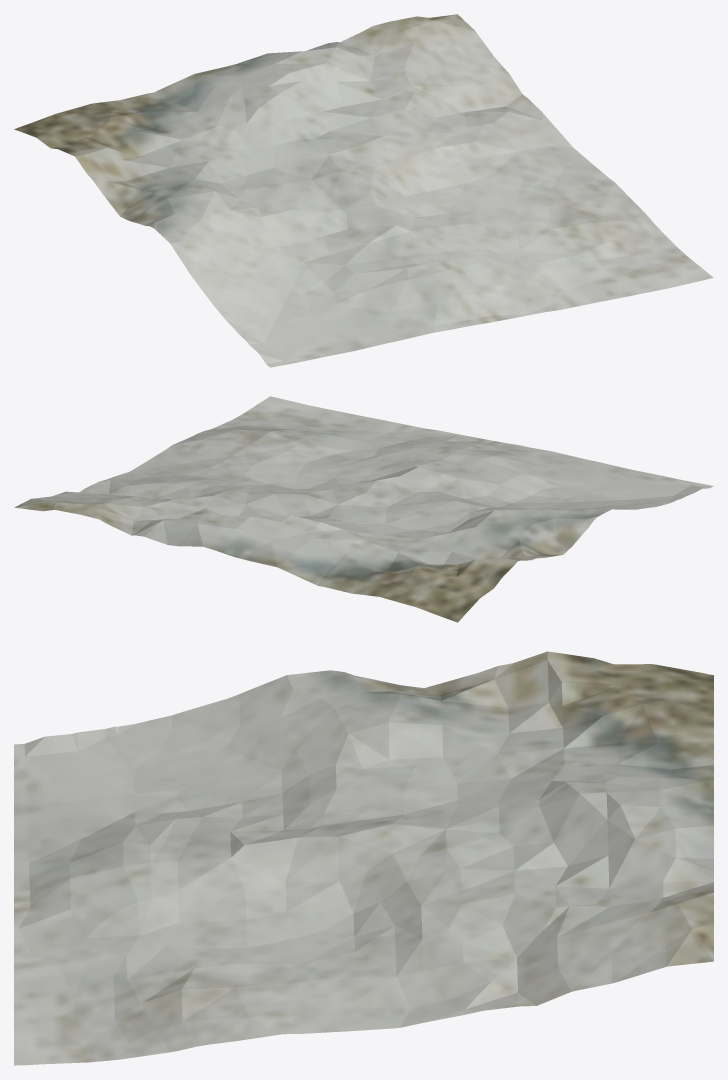
3 views of the same model, one above another, from view 1: azimuth 30°, elevation 25°; view 2: azimuth 150°, elevation 25°; view 3: azimuth 270°, elevation 25° (orthographic). The views are drawn at different scales.
Bounding box in the file's own units: 52.22 × 10.3 × 52.22.
2 materials, 2 textured.
